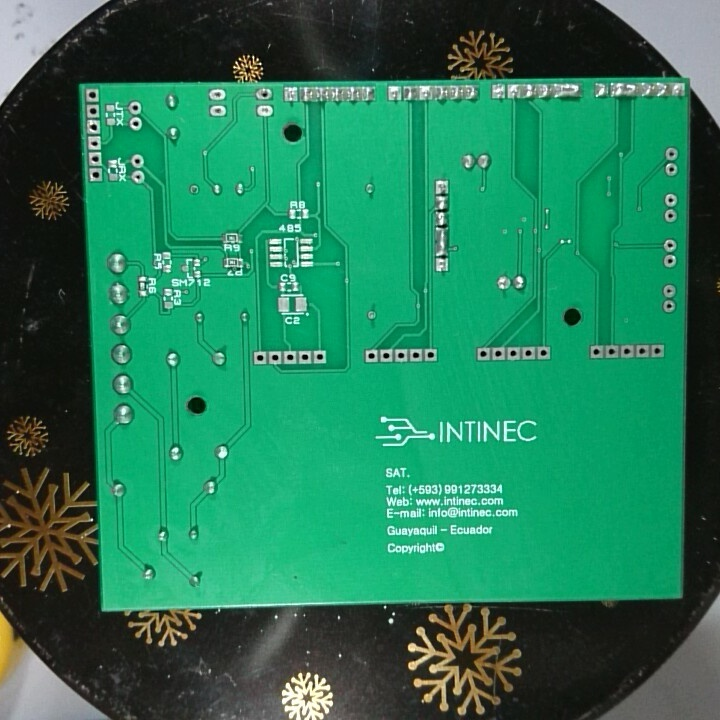F: (433, 177, 452, 197), (86, 133, 105, 152), (207, 87, 229, 103), (86, 118, 106, 135), (127, 115, 145, 133), (434, 257, 452, 275), (88, 149, 107, 166), (255, 87, 275, 103), (254, 103, 275, 118), (670, 81, 687, 99), (364, 303, 379, 323), (127, 98, 144, 115), (89, 166, 106, 183), (496, 276, 513, 293), (185, 182, 201, 200), (251, 351, 267, 369), (663, 163, 682, 178), (664, 190, 679, 209), (536, 344, 551, 363), (86, 103, 102, 120), (130, 152, 145, 170), (84, 88, 102, 103), (663, 206, 678, 224), (490, 83, 504, 102), (476, 346, 489, 366), (663, 146, 679, 162), (387, 86, 402, 103), (130, 170, 147, 185), (312, 349, 327, 366), (662, 298, 676, 316), (490, 345, 504, 363), (407, 346, 421, 364), (419, 84, 432, 103), (661, 282, 675, 299), (664, 235, 677, 253), (664, 252, 677, 270), (590, 343, 603, 361), (507, 85, 521, 101), (364, 348, 377, 365), (395, 346, 407, 364), (282, 86, 296, 101), (521, 345, 534, 361), (605, 343, 617, 360), (423, 345, 434, 363), (379, 348, 391, 364), (269, 350, 281, 366), (208, 105, 227, 115), (620, 343, 631, 360), (505, 345, 516, 362), (636, 343, 646, 361), (650, 343, 661, 359), (282, 349, 293, 365), (299, 349, 307, 366)
P: (554, 80, 581, 103), (609, 80, 638, 101), (434, 226, 452, 257)
